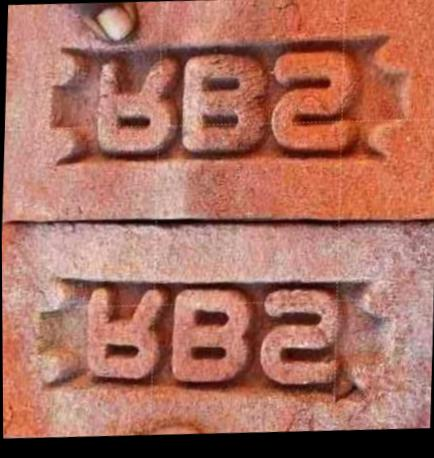brick: (2, 199, 434, 453), (0, 0, 434, 240)
